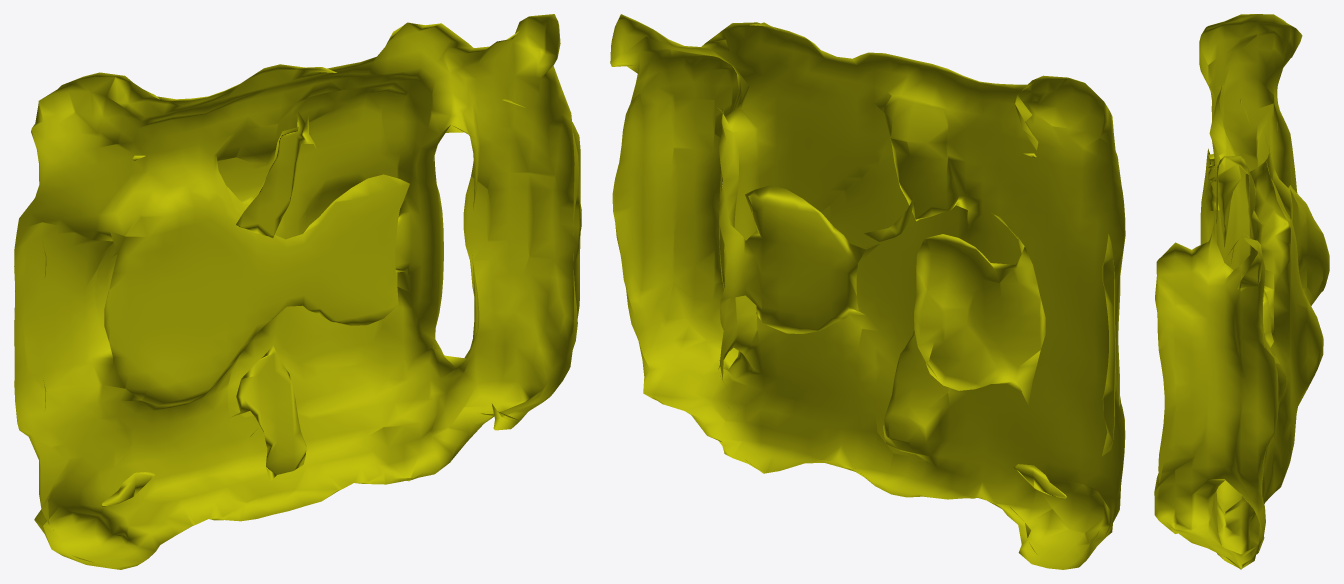
The picture shows the model from 3 angles, left to right: view 1: azimuth 30°, elevation 25°; view 2: azimuth 150°, elevation 25°; view 3: azimuth 270°, elevation 25°; orthographic projection. The views are drawn at different scales.
Parts seen in each view (by area): view 1: world; view 2: world; view 3: world.
Part boxes in pixels (box(x1,y1,x2,y2)): world: box(14, 14, 581, 569); world: box(610, 14, 1125, 569); world: box(1154, 14, 1329, 569).
Bounding box in the file's own units: 33.4 × 28.26 × 10.66.
